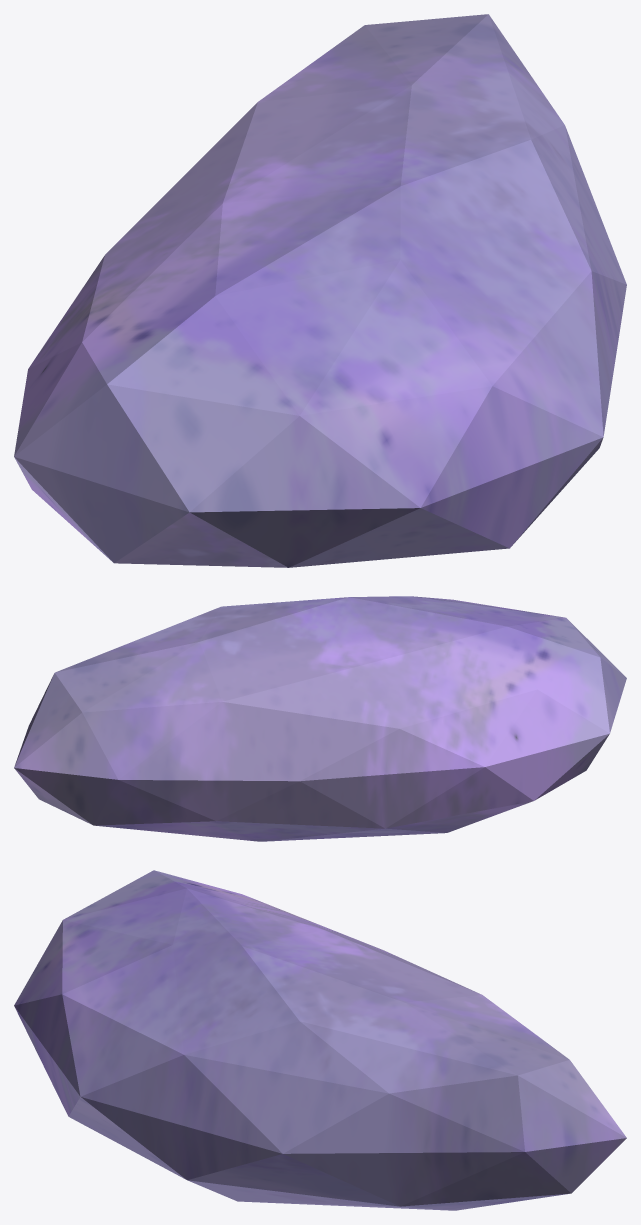
The model's file is Pebble_3.fbx.
3 views of the same model, one above another, from view 1: azimuth 30°, elevation 25°; view 2: azimuth 150°, elevation 25°; view 3: azimuth 270°, elevation 25° (orthographic). The views are drawn at different scales.
Visible parts, largest first — view 1: Pebble_3; view 2: Pebble_3; view 3: Pebble_3.
Boxes of the visible parts, x1=… form: Pebble_3: x1=14, y1=14, x2=626, y2=567; Pebble_3: x1=14, y1=596, x2=626, y2=841; Pebble_3: x1=14, y1=870, x2=626, y2=1210.
Bounding box in the file's own units: 153 × 67.36 × 162.
